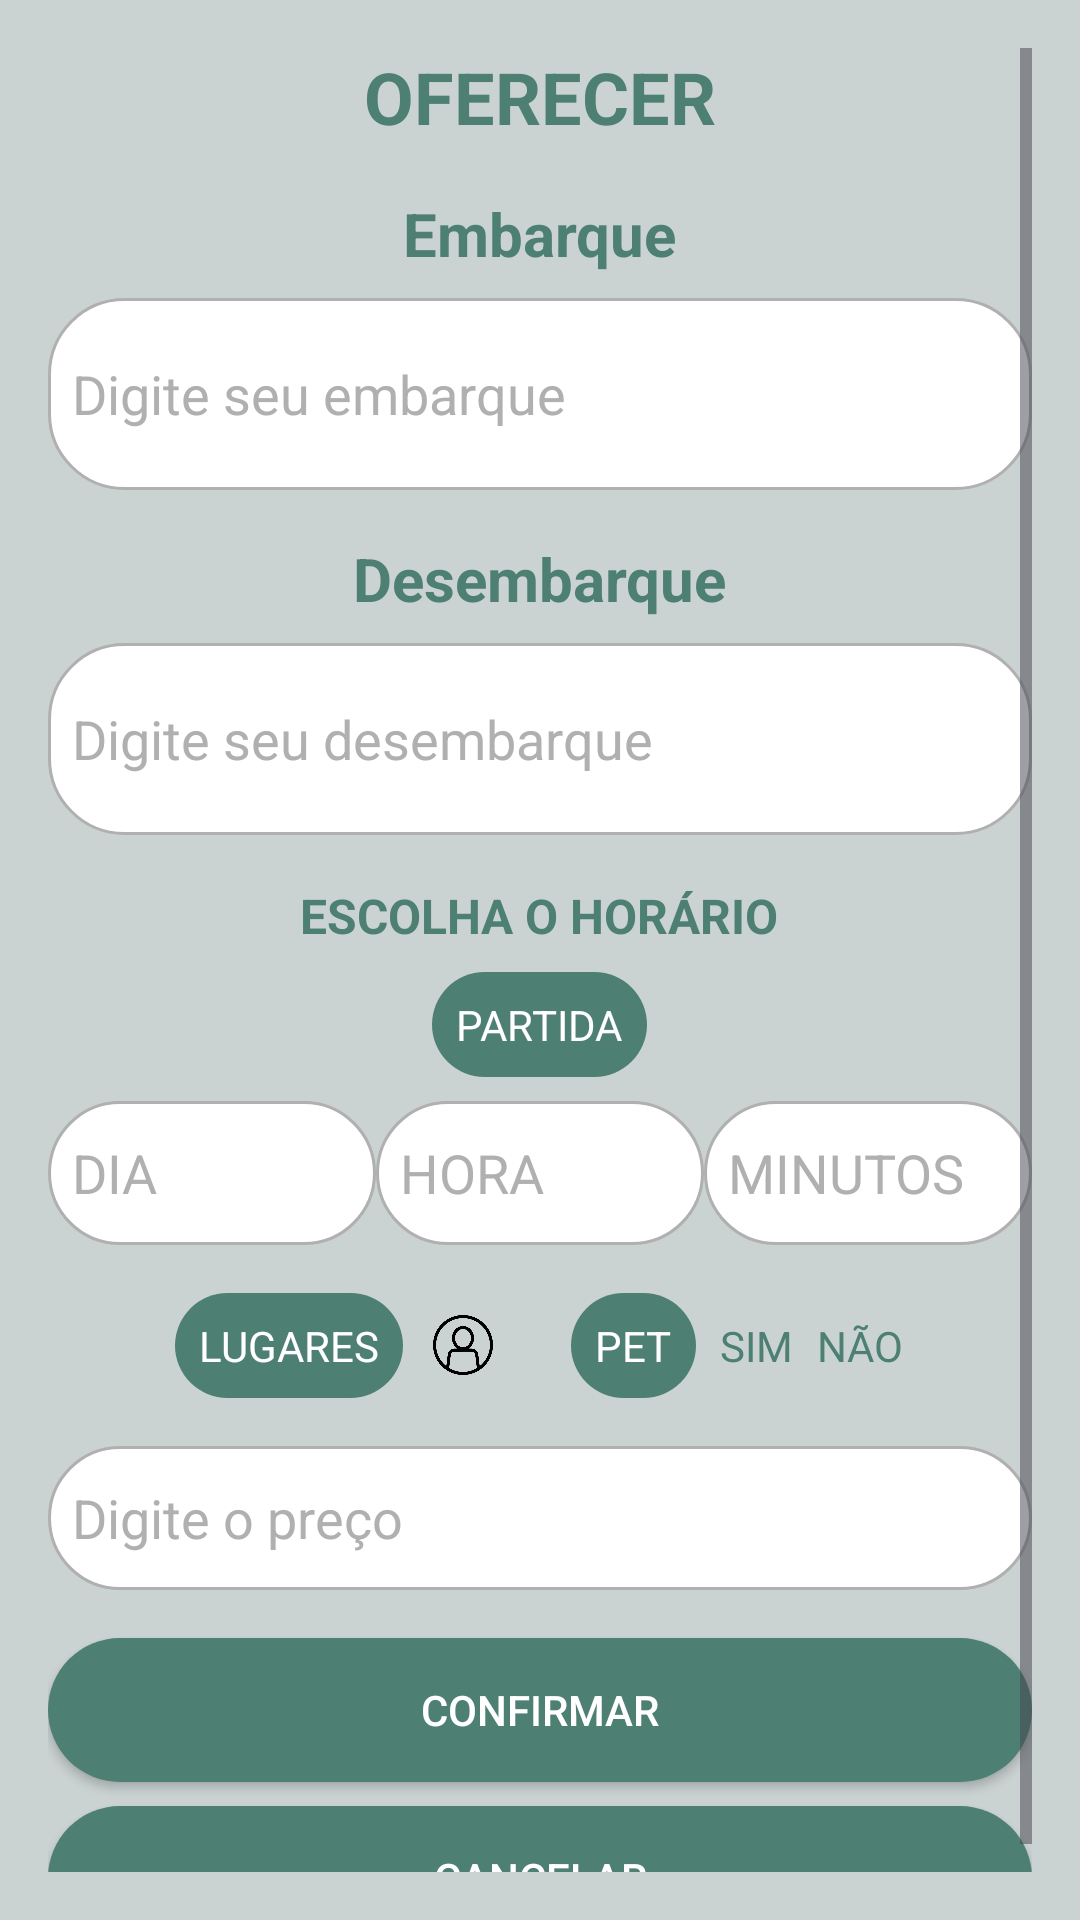

Point at icon controls on the screen. Image size 1080 x 1920, points as (x,y).
pessoa: (463,1345)
